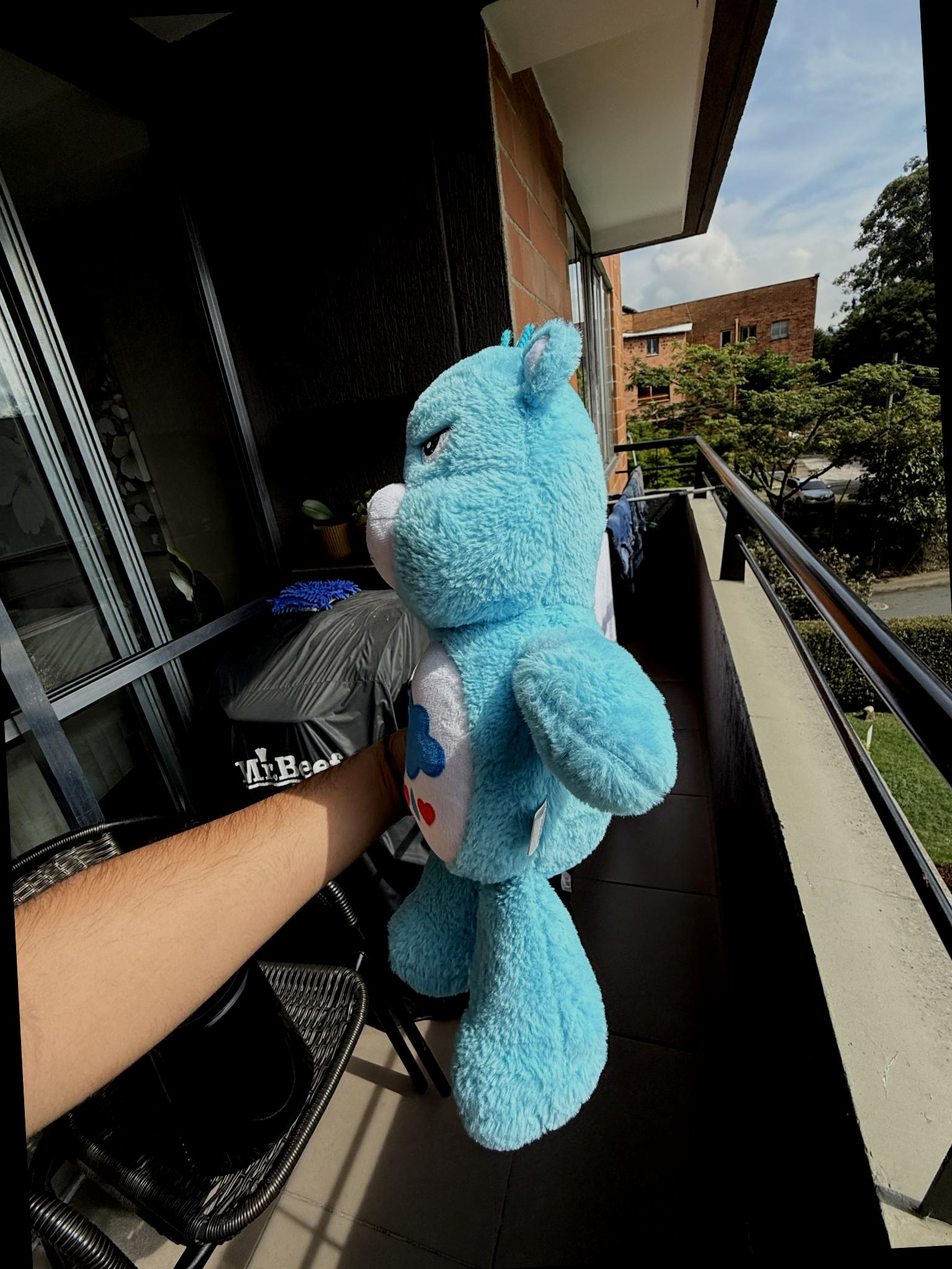peluche_Juan Jose: (351, 300, 699, 1158)
